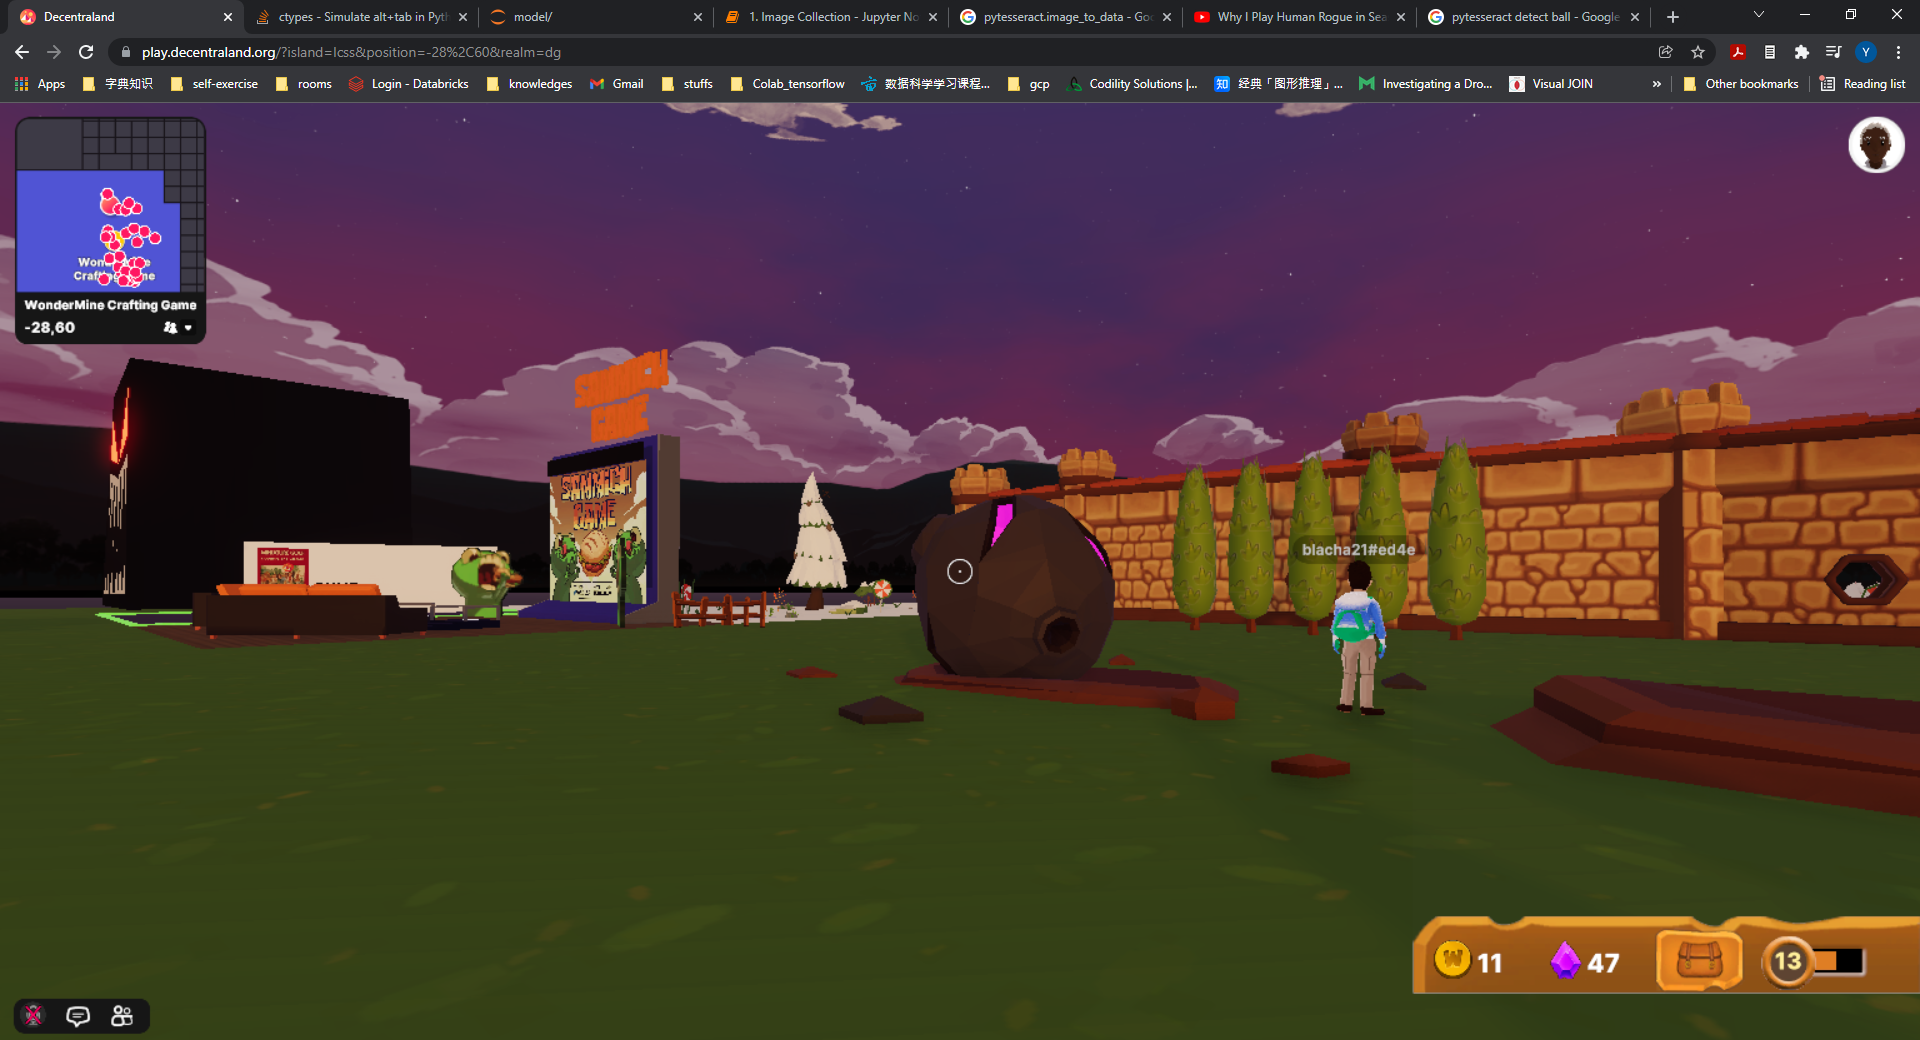black_ball: (901, 482, 1126, 695)
